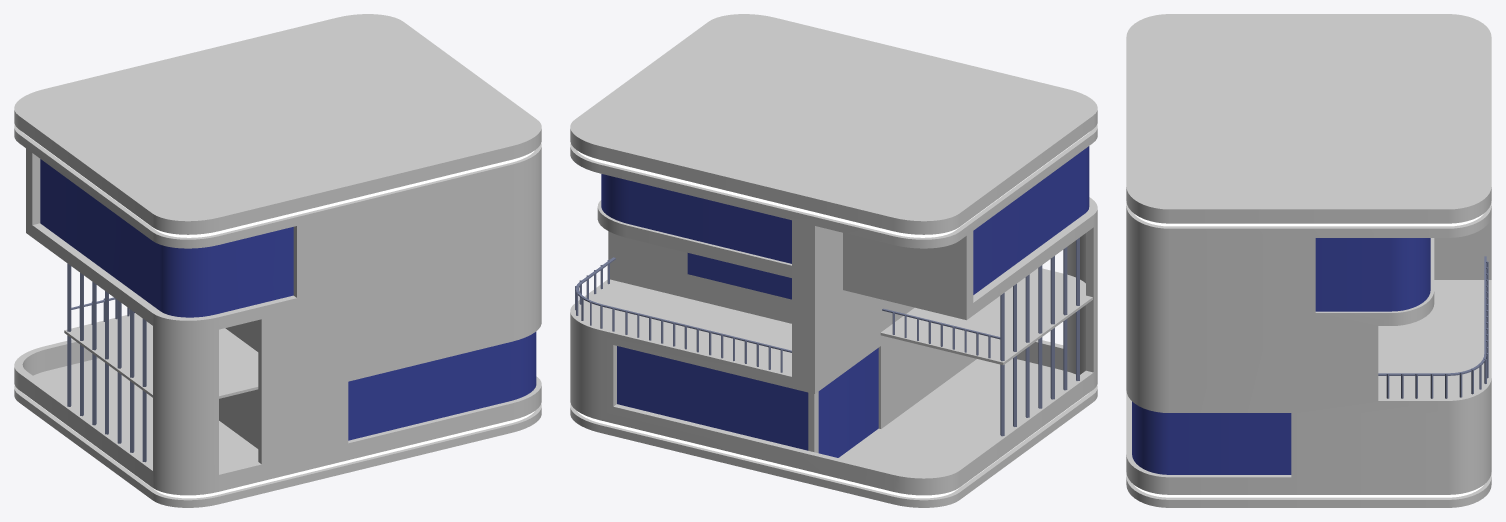
Rendered from SM_B_i2_floor2.fbx.
The picture shows the model from 3 angles, left to right: view 1: azimuth 30°, elevation 25°; view 2: azimuth 150°, elevation 25°; view 3: azimuth 270°, elevation 25°; orthographic projection. The views are drawn at different scales.
Parts seen in each view (by area): view 1: 2flor; view 2: 2flor; view 3: 2flor.
Part boxes in pixels (x1,y1,x2,y2): 2flor: (14,14,541,507); 2flor: (570,14,1097,507); 2flor: (1126,14,1491,507).
Size of the model in its own units: 1900 by 1353 by 1500.
